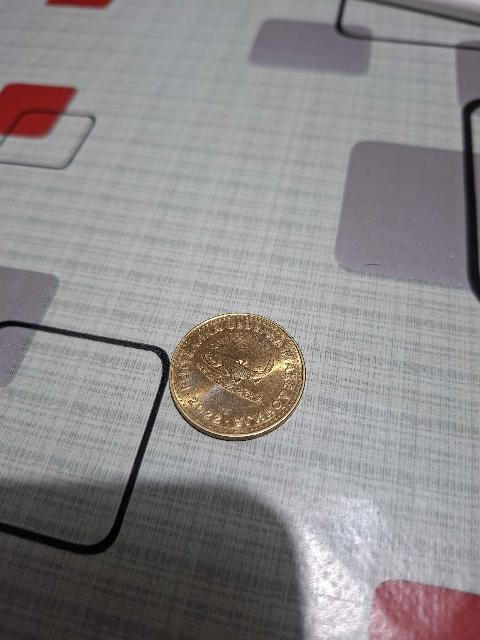2_coin: (169, 313, 305, 440)
